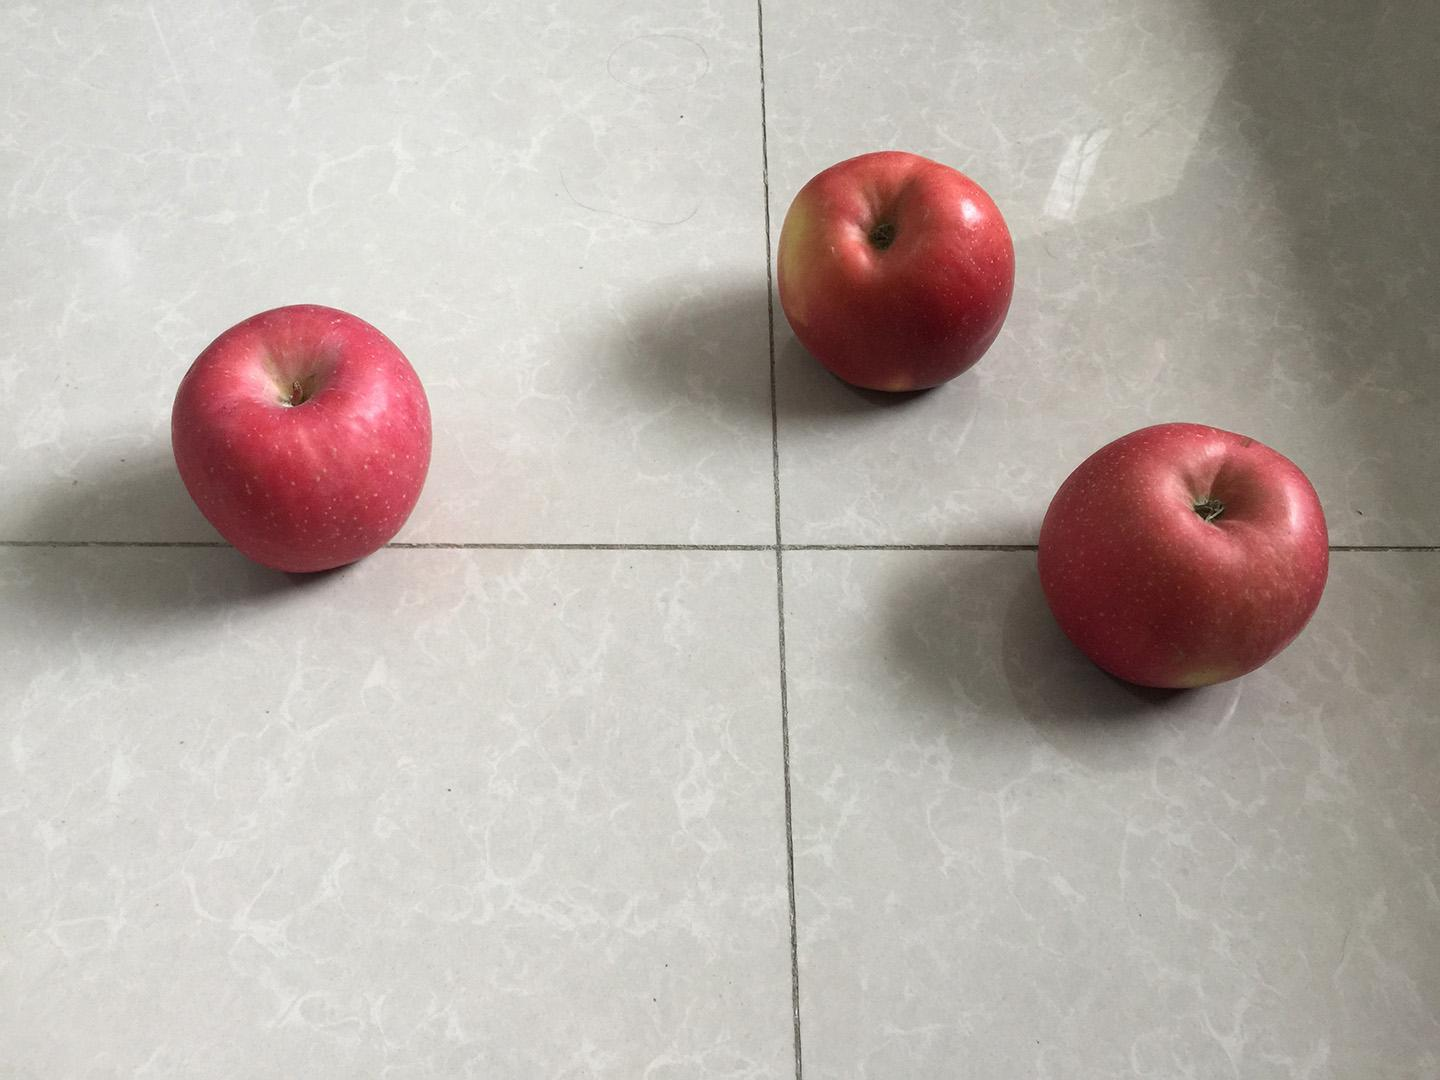apple: (1034, 416, 1338, 698), (164, 295, 442, 577), (772, 146, 1025, 402)
